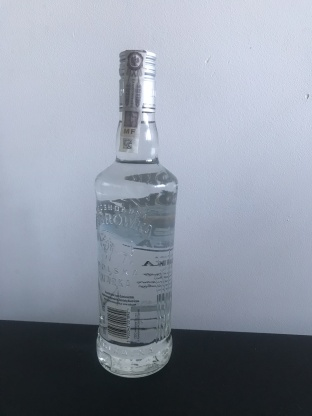nakretka: (115, 44, 158, 116)
